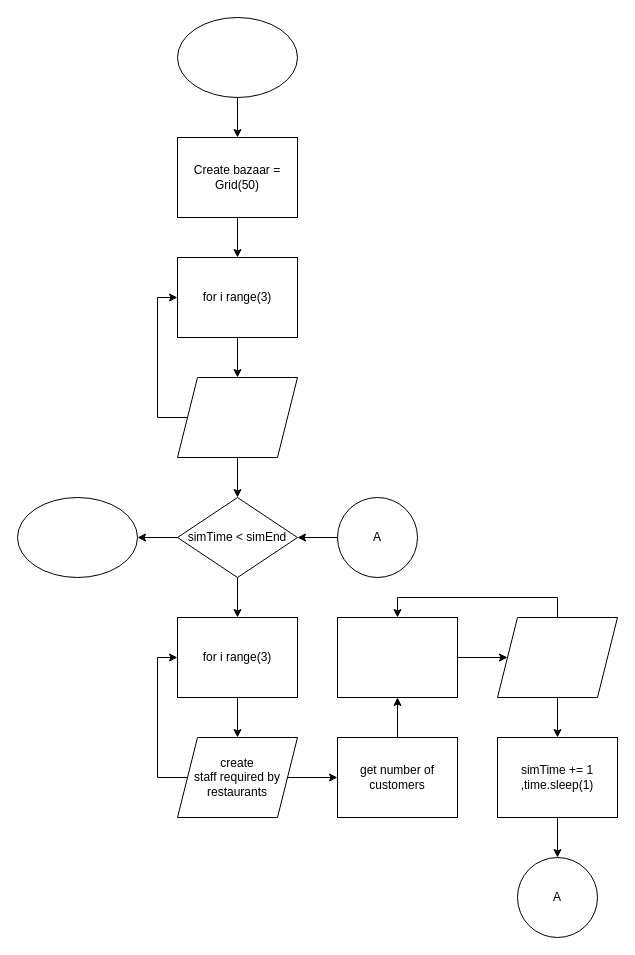
Some shapes in this 635 by 955 pixel diagram are drawn without their labels. Each missing label, with the centre of its shape:
"create and assign customer to customers" goes at point (557, 657).
"create and assign restaurant to restaurants" goes at point (237, 417).
"End" goes at point (77, 537).
"for i in range(number of custoimers)" goes at point (397, 657).
"Start" goes at point (237, 57).
